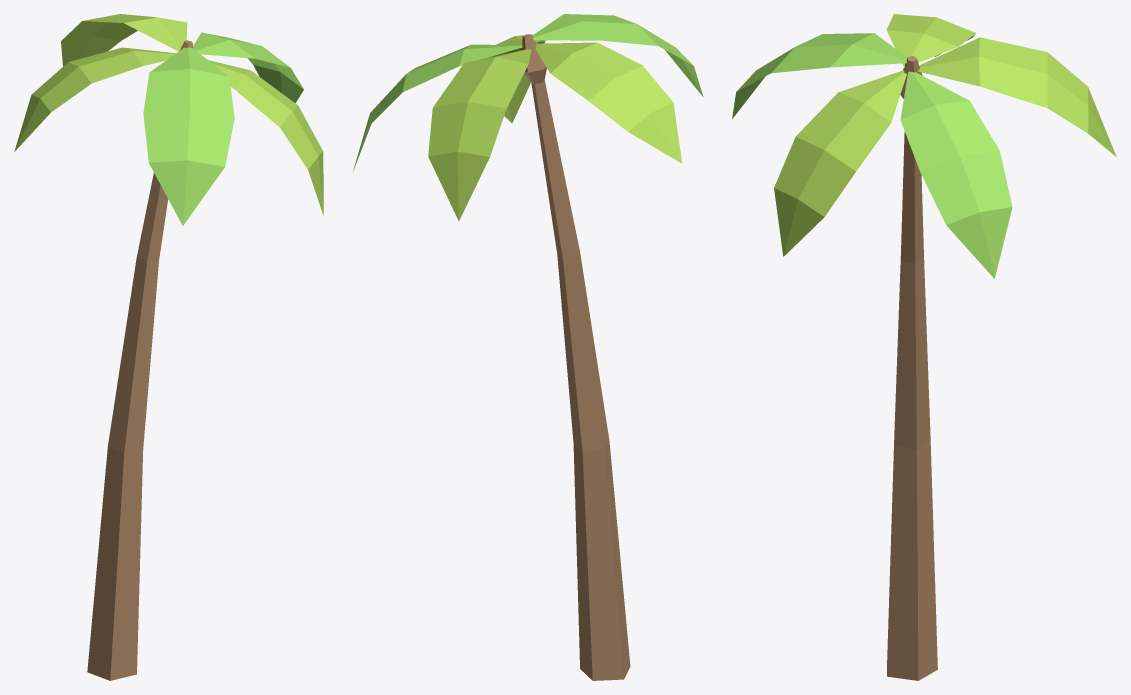
File: Palm_Tree_OneSided_s_02_LOD.fbx
The picture shows the model from 3 angles, left to right: view 1: azimuth 30°, elevation 25°; view 2: azimuth 150°, elevation 25°; view 3: azimuth 270°, elevation 25°; orthographic projection. The views are drawn at different scales.
Parts seen in each view (by area): view 1: Palm_Tree_OneSided_s_02_LOD0; view 2: Palm_Tree_OneSided_s_02_LOD0; view 3: Palm_Tree_OneSided_s_02_LOD0.
Part boxes in pixels (x1,y1,x2,y2): Palm_Tree_OneSided_s_02_LOD0: (14,14,323,680); Palm_Tree_OneSided_s_02_LOD0: (353,14,703,680); Palm_Tree_OneSided_s_02_LOD0: (732,14,1116,680).
Size of what is drawn, in the model's own units: 243 by 478 by 255.
